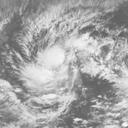cyclone: (18, 41, 79, 92)
